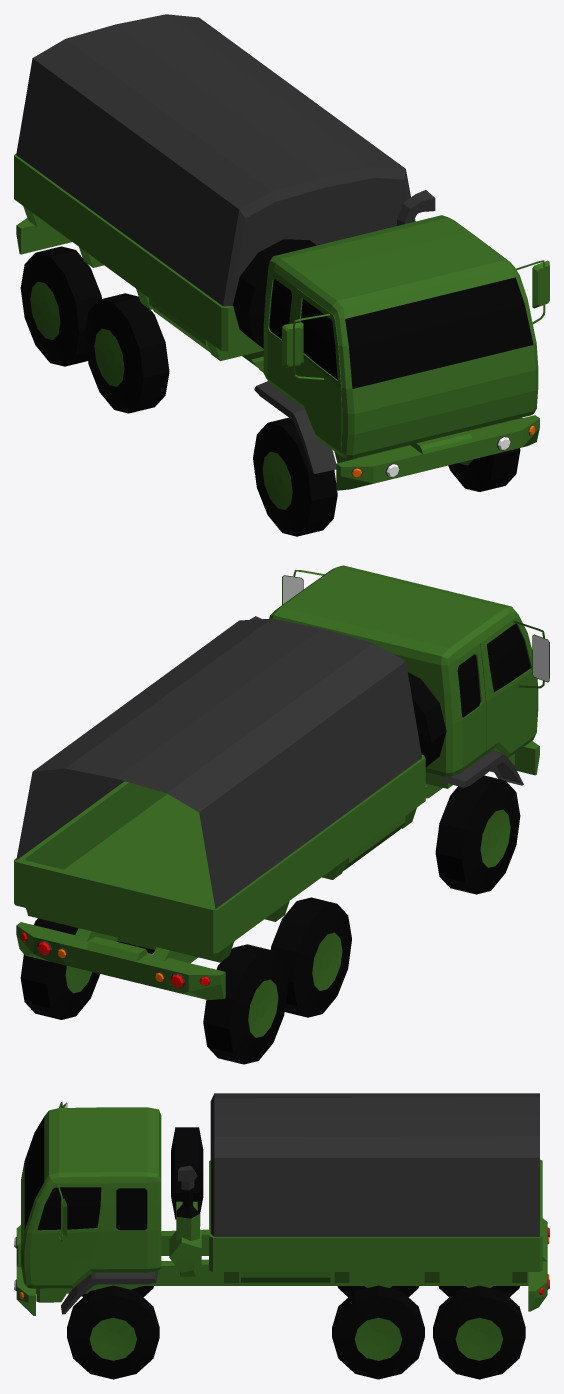
3 renders of one model, top to bottom at view 1: azimuth 30°, elevation 25°; view 2: azimuth 150°, elevation 25°; view 3: azimuth 270°, elevation 25°, orthographic. The views are drawn at different scales.
Visible parts, largest first — view 1: Plane.029, Cylinder.024, Cylinder.028, Cylinder.026, Plane.030, Plane.028, Cylinder.029, Plane.034; view 2: Plane.029, Cylinder.026, Plane.033, Cylinder.028, Cylinder.024, Plane.030, Cylinder.025, Plane.028; view 3: Plane.029, Plane.034, Cylinder.027, Cylinder.029, Cylinder.025, Plane.028, Cylinder.024, Cylinder.028.
Boxes of the visible parts, x1,y1,x2,y2 form: Plane.029: (14, 14, 539, 490); Cylinder.024: (84, 293, 169, 413); Cylinder.028: (20, 246, 101, 366); Cylinder.026: (253, 417, 337, 536); Plane.030: (282, 288, 342, 452); Plane.028: (233, 190, 435, 372); Cylinder.029: (448, 448, 520, 491); Plane.034: (516, 260, 549, 327); Plane.029: (14, 565, 539, 999); Cylinder.026: (435, 775, 520, 894); Plane.033: (34, 863, 197, 948); Cylinder.028: (203, 944, 287, 1064); Cylinder.024: (270, 897, 351, 1017); Plane.030: (480, 617, 549, 753); Cylinder.025: (20, 918, 100, 1019); Plane.028: (249, 616, 446, 788); Plane.029: (14, 1093, 549, 1315); Plane.034: (30, 1183, 110, 1285); Cylinder.027: (332, 1285, 424, 1379); Cylinder.029: (67, 1285, 159, 1379); Cylinder.025: (433, 1285, 525, 1379); Plane.028: (169, 1127, 203, 1276); Cylinder.024: (337, 1286, 419, 1297); Cylinder.028: (438, 1286, 519, 1297).
Bounding box in the file's own units: 304 × 309 × 669.
